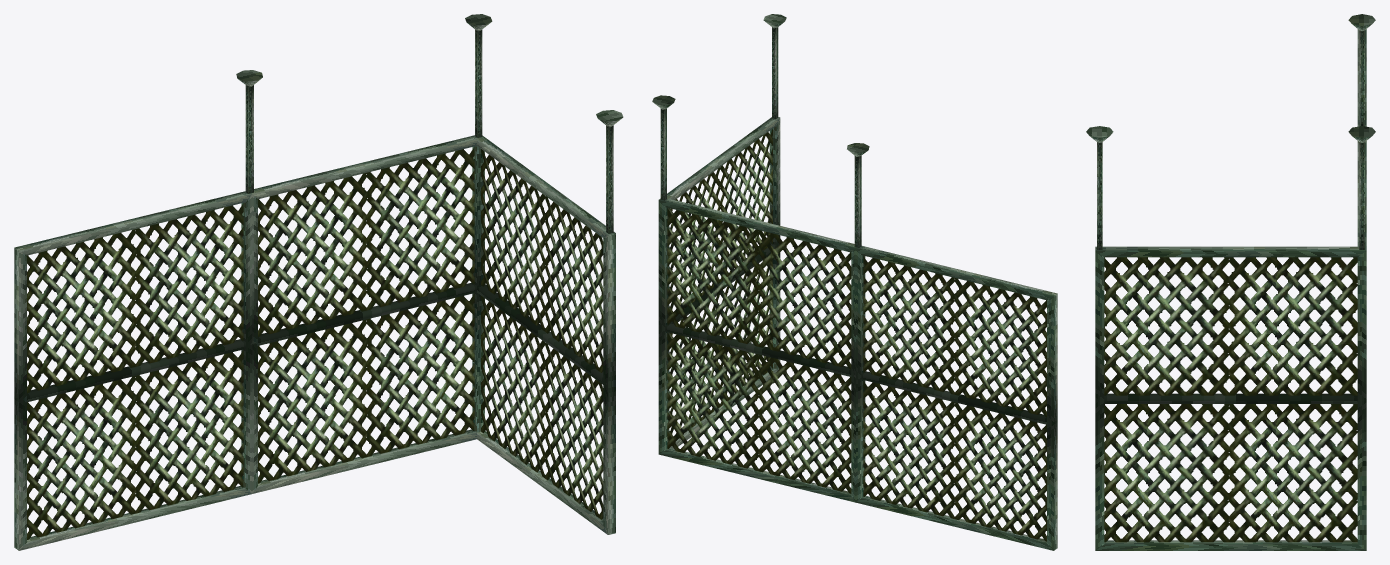
The model's file is a_fenc_1.glb.
3 views of the same model, side by side, from view 1: azimuth 30°, elevation 25°; view 2: azimuth 150°, elevation 25°; view 3: azimuth 270°, elevation 25° (orthographic). The views are drawn at different scales.
Parts seen in each view (by area): view 1: a_fenc_1; view 2: a_fenc_1; view 3: a_fenc_1.
Part boxes in pixels (<box>): a_fenc_1: <box>14,14,623,550</box>; a_fenc_1: <box>652,14,1057,550</box>; a_fenc_1: <box>1086,14,1375,550</box>.
Size of the model in its own units: 595 by 500 by 315.
Materials: 2 (2 with a texture image).
